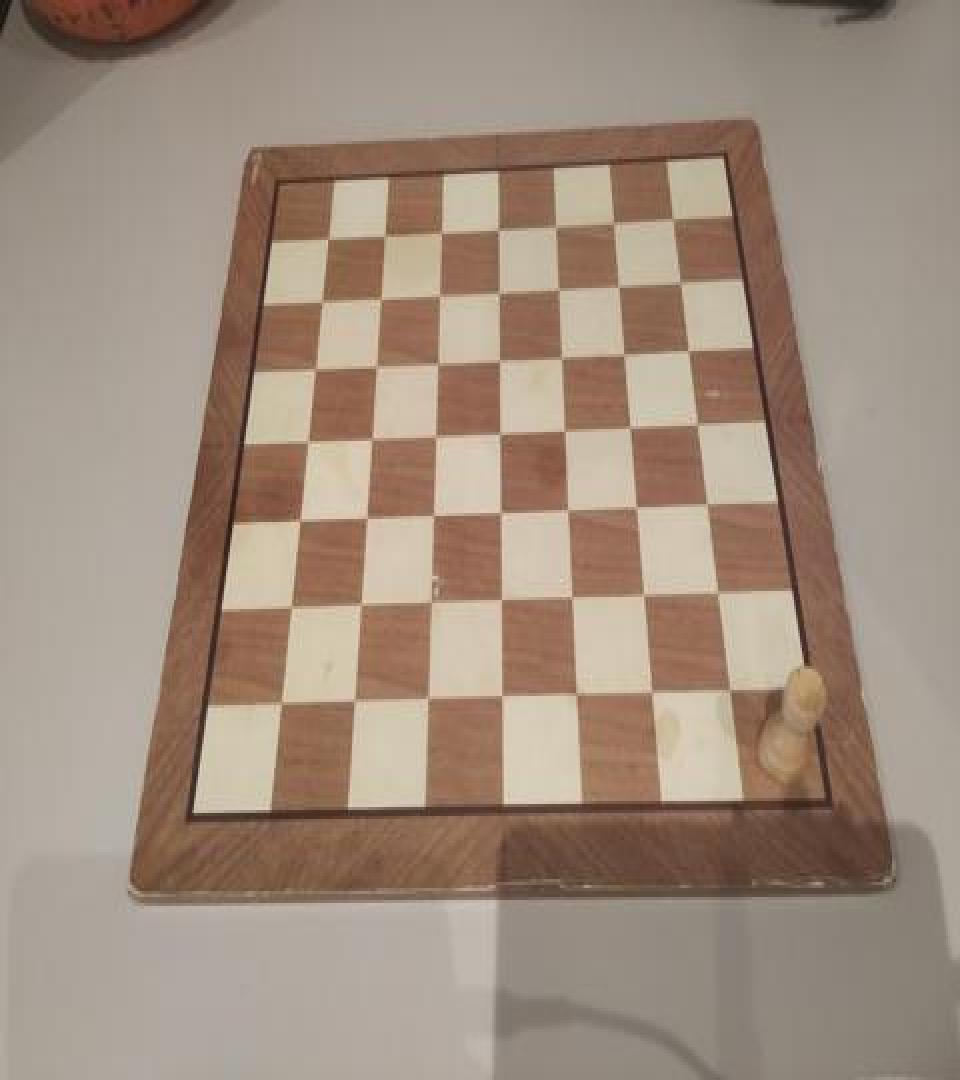xcorner: (493, 499, 513, 530), (273, 693, 293, 723), (347, 692, 367, 722), (496, 686, 516, 716), (572, 684, 592, 714), (648, 681, 668, 711), (724, 678, 744, 708), (282, 597, 302, 627), (352, 594, 372, 624), (423, 591, 443, 621), (495, 588, 515, 618), (639, 584, 659, 614), (290, 508, 310, 538), (357, 506, 377, 536), (425, 502, 445, 532), (562, 496, 582, 526), (631, 494, 651, 524), (700, 490, 720, 520), (297, 428, 317, 458), (362, 424, 382, 454), (426, 422, 446, 452), (492, 418, 512, 448), (557, 416, 577, 446), (623, 412, 643, 442), (690, 410, 710, 440), (304, 352, 324, 382), (366, 350, 386, 380), (428, 346, 448, 376), (490, 344, 510, 374), (553, 340, 573, 370), (617, 338, 637, 368), (680, 334, 700, 364), (310, 285, 330, 315), (369, 282, 389, 312), (429, 279, 449, 309), (489, 276, 509, 306), (550, 273, 570, 303), (610, 268, 630, 298), (672, 266, 692, 296), (316, 222, 336, 252), (373, 219, 393, 249), (430, 214, 450, 244), (488, 212, 508, 242), (546, 208, 566, 238), (605, 206, 625, 236), (663, 202, 683, 232), (422, 689, 442, 718), (567, 587, 587, 616), (712, 581, 732, 610)
